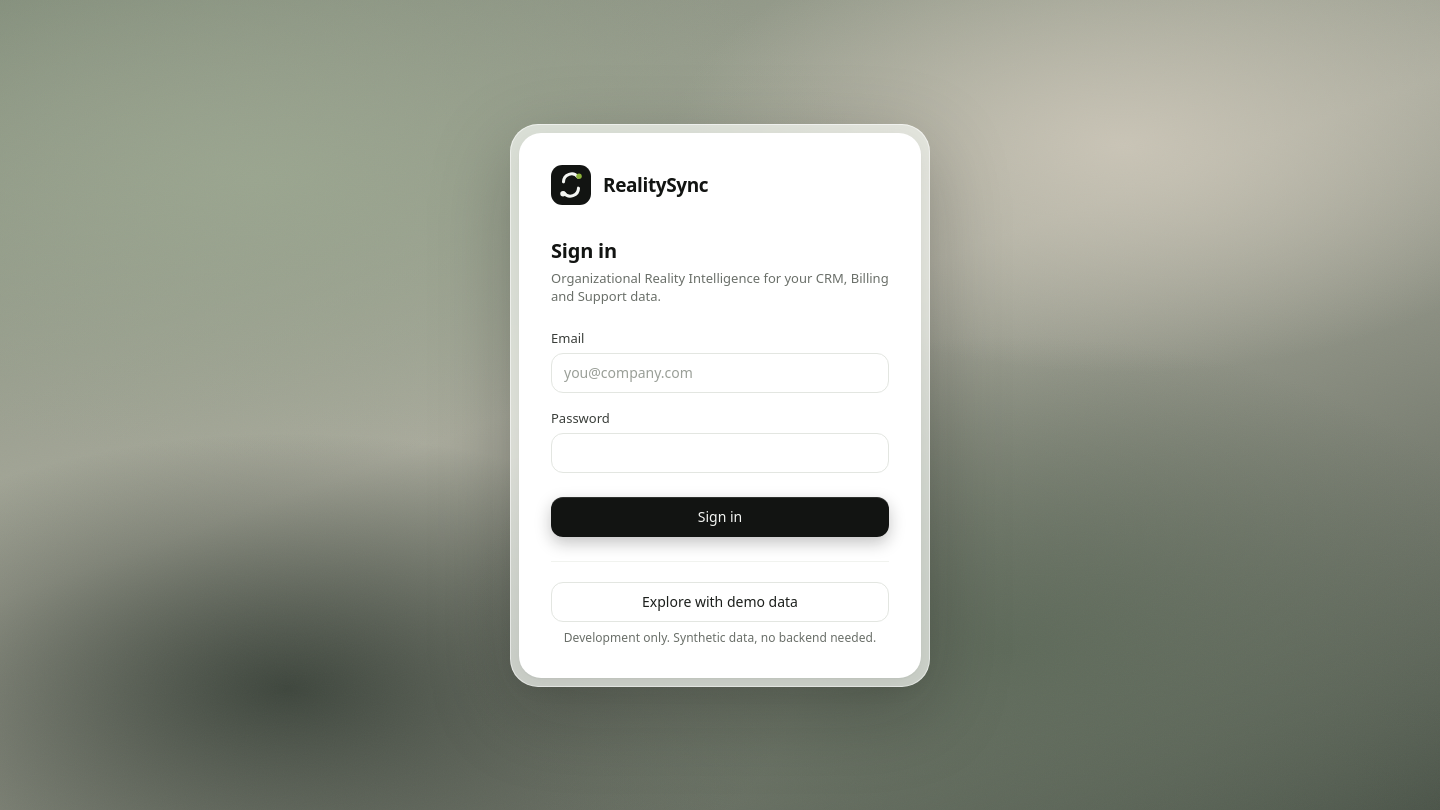
login page › signs in and returns to the page the user wanted
Type "riya.sharma@example.com" into the field labelled "Email". click: (720, 372)
box: [551, 352, 889, 392]
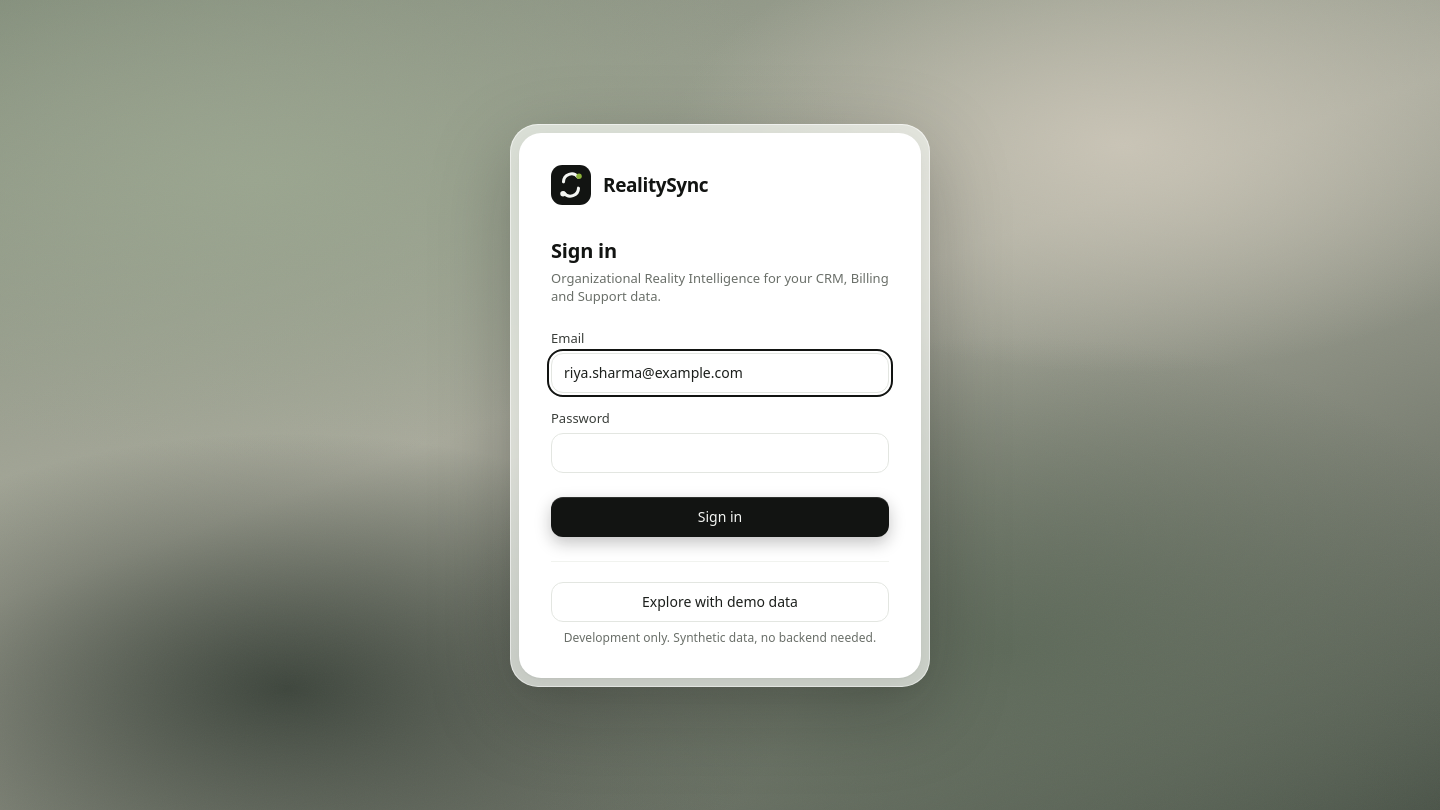
Type "Correct-horse-42" into the password field labelled "Password". click: (720, 452)
box: [551, 432, 889, 472]
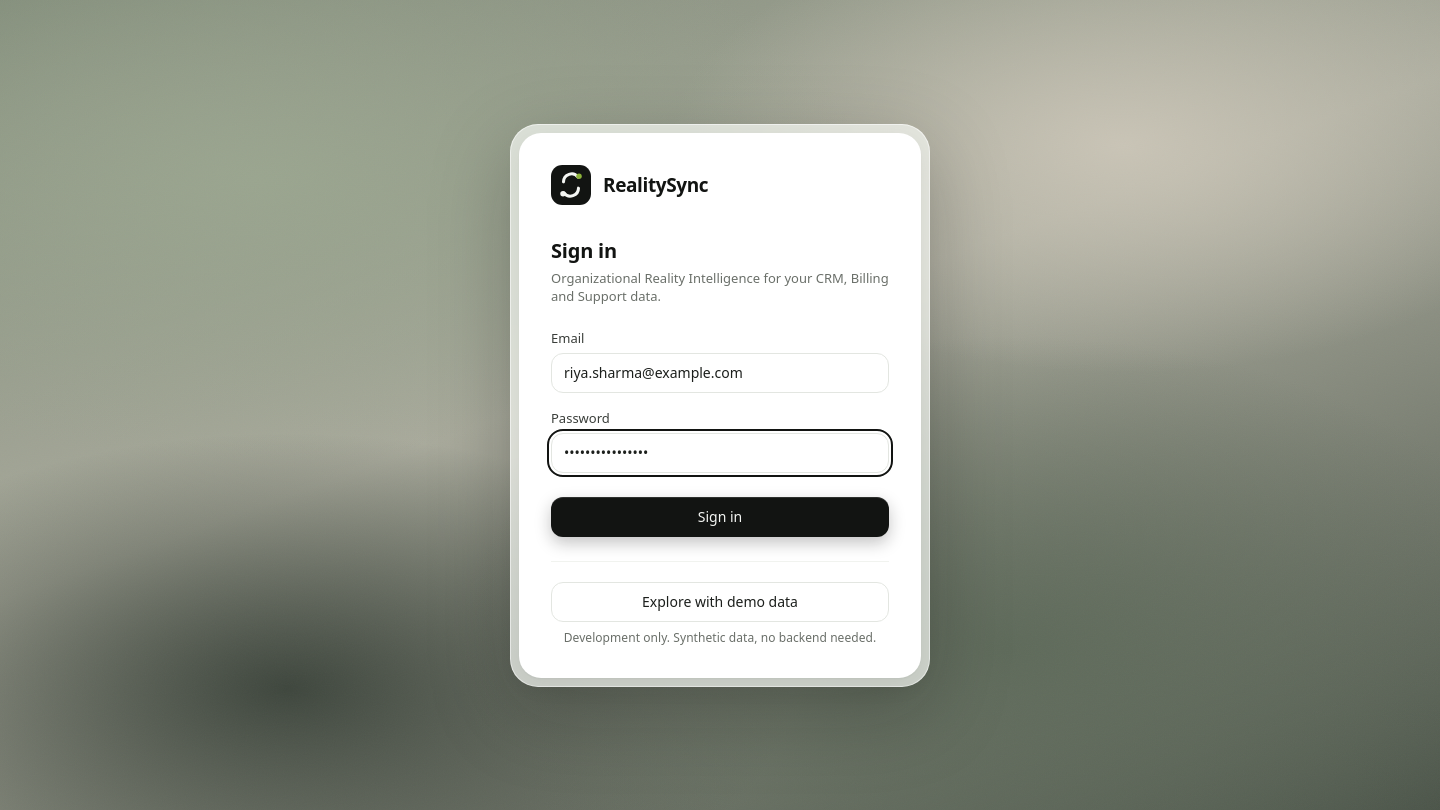
Click the button "Sign in". click: click(720, 516)
box: [551, 496, 889, 536]
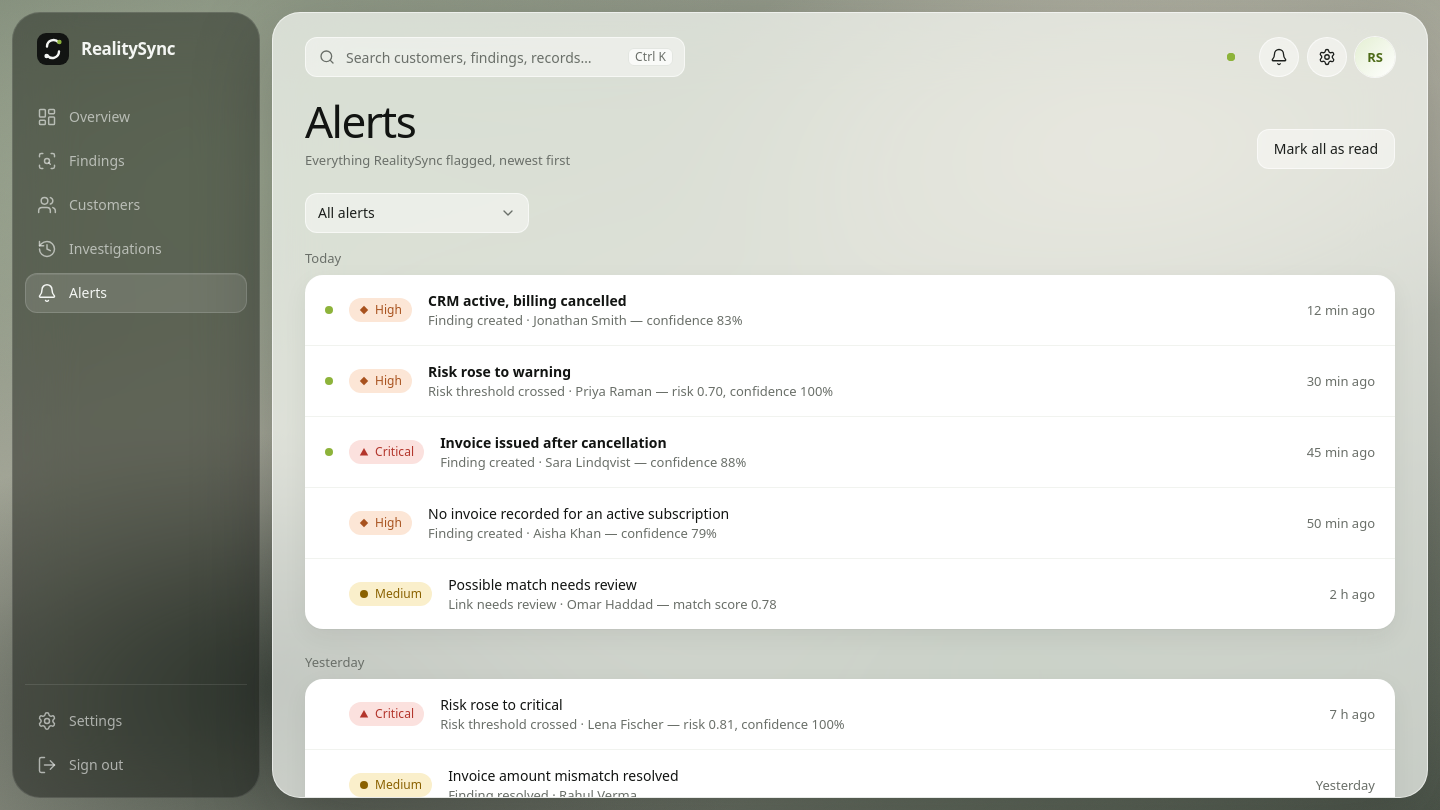
Expected: the heading "Alerts" is shown, [305, 91, 415, 151]
